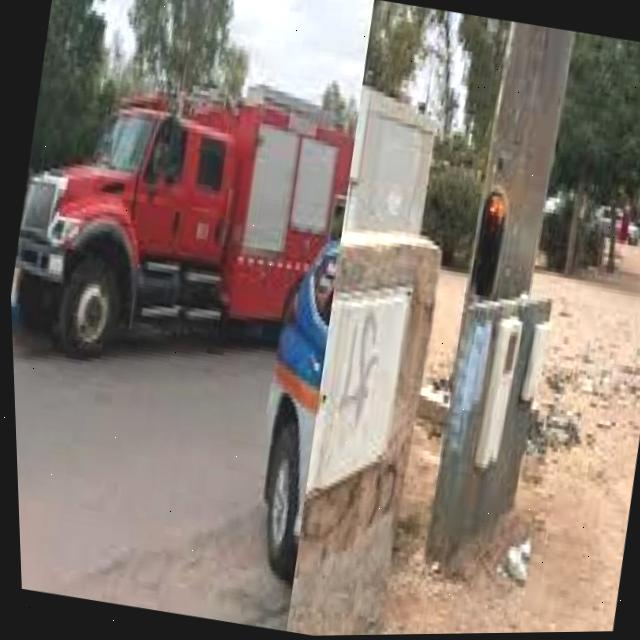emergency: (1, 29, 375, 364)
